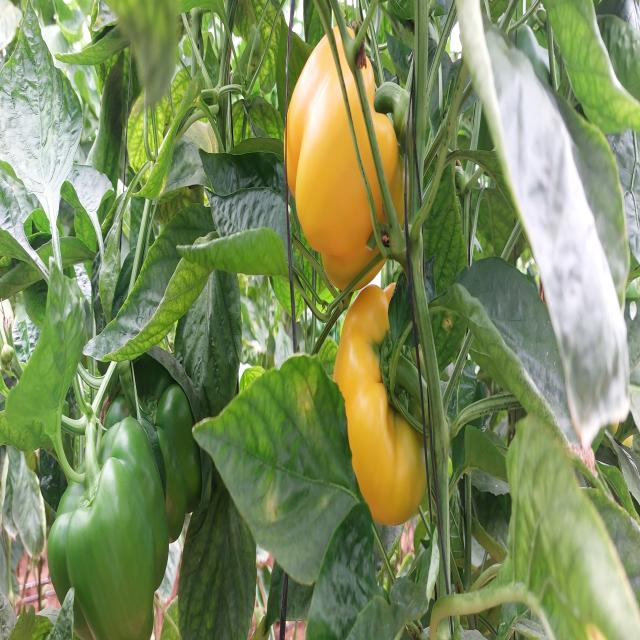Yellow-Ready-to-Harvest: (274, 45, 417, 268), (336, 292, 447, 533)
